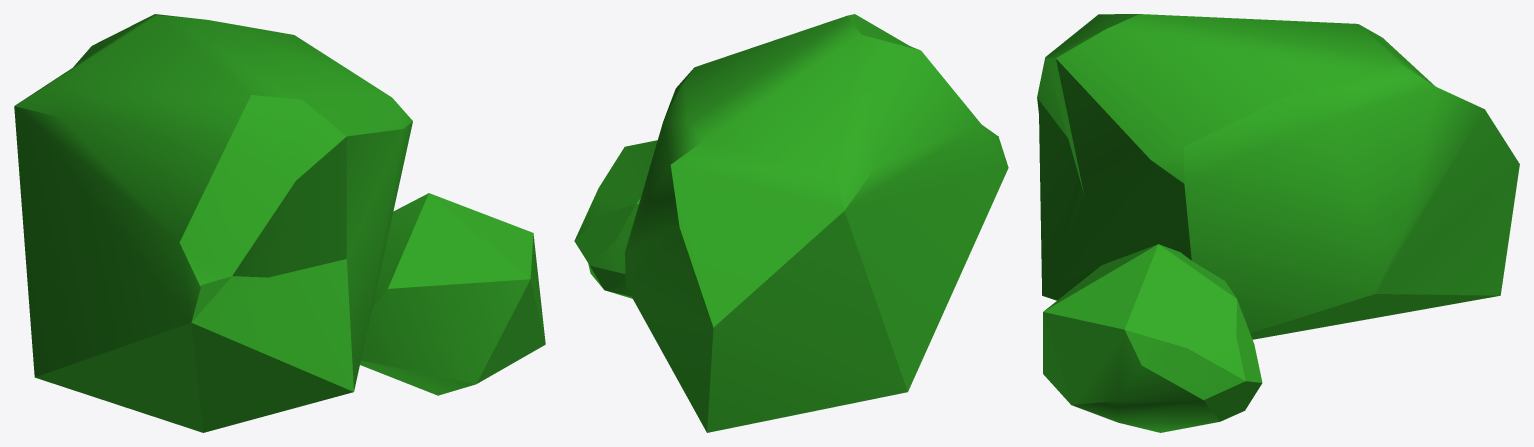
The model's file is Bush1.fbx.
3 views of the same model, side by side, from view 1: azimuth 30°, elevation 25°; view 2: azimuth 150°, elevation 25°; view 3: azimuth 270°, elevation 25° (orthographic). The views are drawn at different scales.
Parts seen in each view (by area): view 1: Icosphere, Icosphere.001; view 2: Icosphere, Icosphere.001; view 3: Icosphere, Icosphere.001.
Part boxes in pixels (x1,y1,x2,y2): Icosphere: (14, 14, 412, 432); Icosphere.001: (360, 193, 545, 395); Icosphere: (625, 14, 1008, 432); Icosphere.001: (574, 140, 657, 298); Icosphere: (1037, 14, 1519, 339); Icosphere.001: (1043, 244, 1262, 432).
Size of the model in its own units: 4.27 by 3.36 by 4.49.
